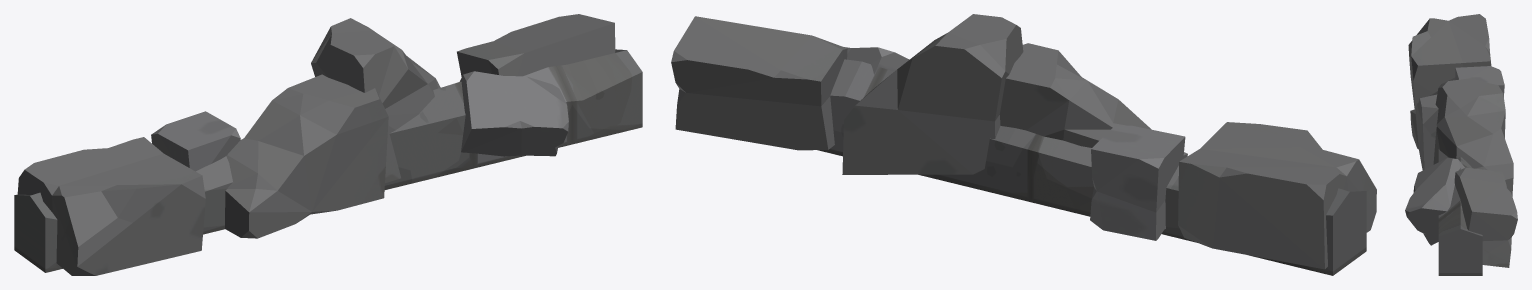
File: SM_Bld_Wall_L_Damaged_08.fbx
3 views of the same model, side by side, from view 1: azimuth 30°, elevation 25°; view 2: azimuth 150°, elevation 25°; view 3: azimuth 270°, elevation 25° (orthographic). The views are drawn at different scales.
Parts seen in each view (by area): view 1: SM_Bld_Wall_L_Damaged_08; view 2: SM_Bld_Wall_L_Damaged_08; view 3: SM_Bld_Wall_L_Damaged_08.
Part boxes in pixels (left/top/right/bottom): SM_Bld_Wall_L_Damaged_08: left=14, top=14, right=642, bottom=275; SM_Bld_Wall_L_Damaged_08: left=671, top=14, right=1376, bottom=275; SM_Bld_Wall_L_Damaged_08: left=1405, top=14, right=1517, bottom=275.
Size of the model in its own units: 500 by 111 by 115.
Materials: 1 (1 with a texture image).
